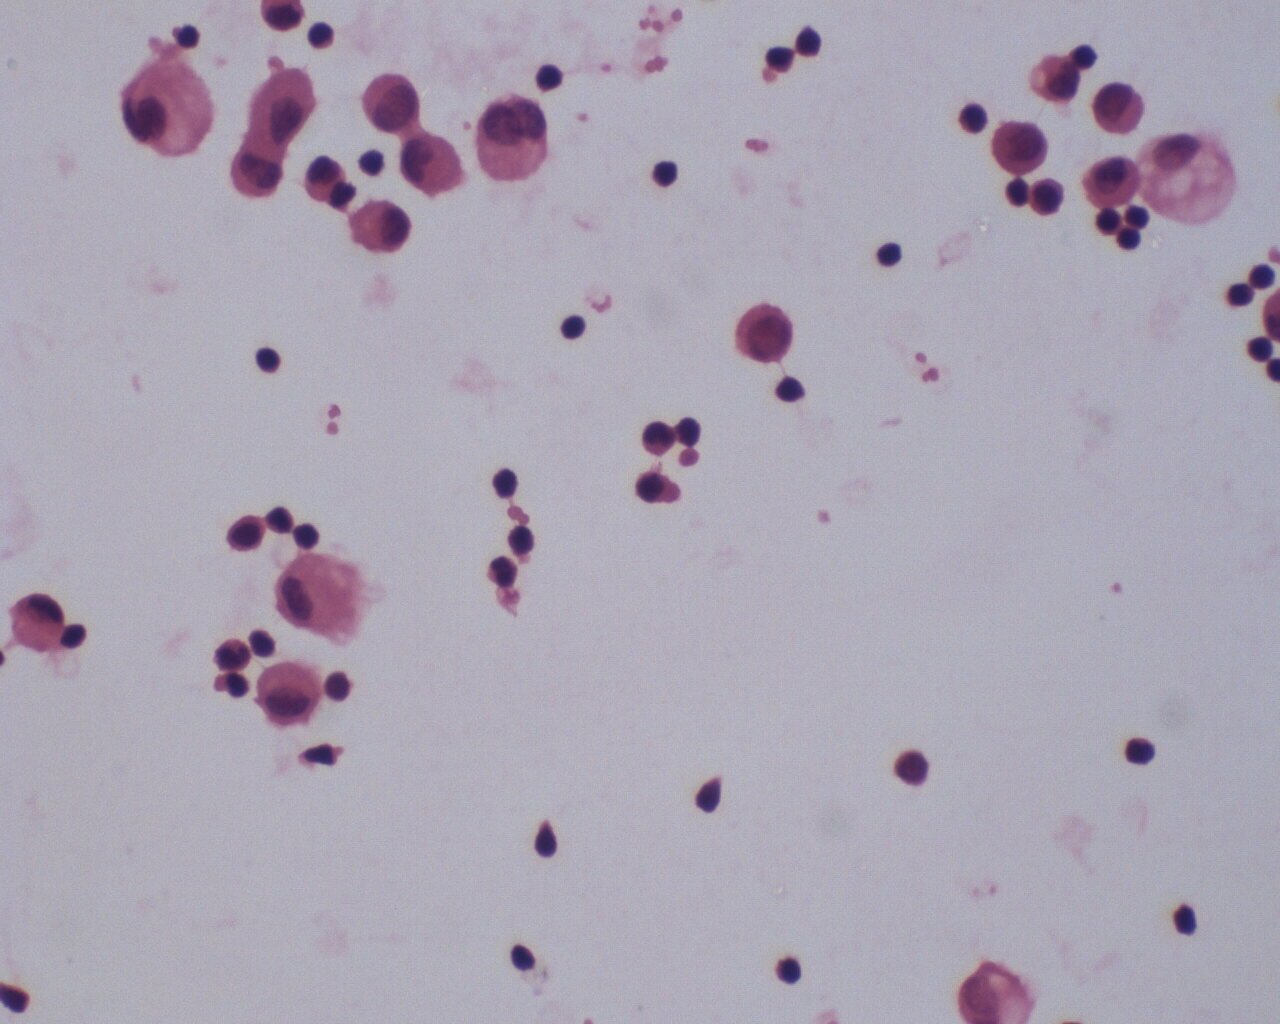ab: (476, 95, 553, 187), (730, 296, 798, 367), (357, 70, 428, 134), (990, 110, 1050, 173), (1090, 78, 1150, 136)
histo: (1140, 121, 1240, 229), (120, 55, 218, 159), (274, 552, 373, 644)
lymph: (250, 341, 290, 381), (871, 232, 907, 275), (647, 155, 684, 194), (768, 951, 802, 990), (555, 309, 589, 346), (1122, 736, 1160, 768), (765, 41, 794, 77)
meso: (254, 657, 326, 734), (346, 193, 415, 262), (1081, 150, 1147, 215), (2, 589, 66, 654)
